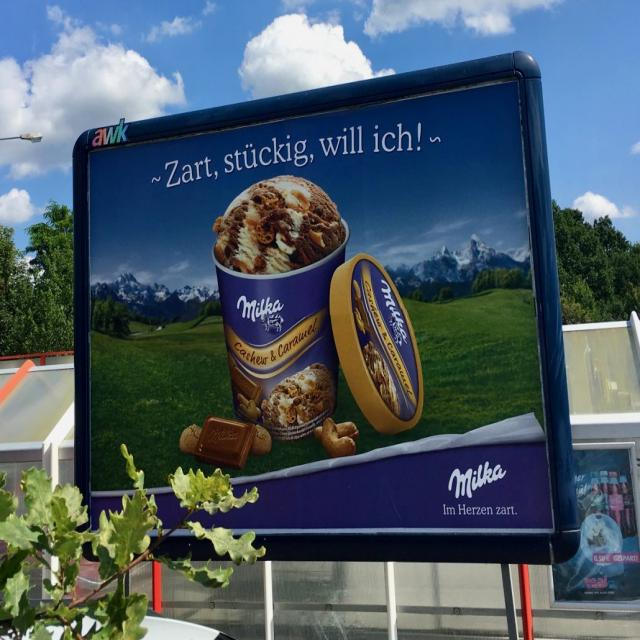Werbetafel frei: (70, 48, 583, 575)
